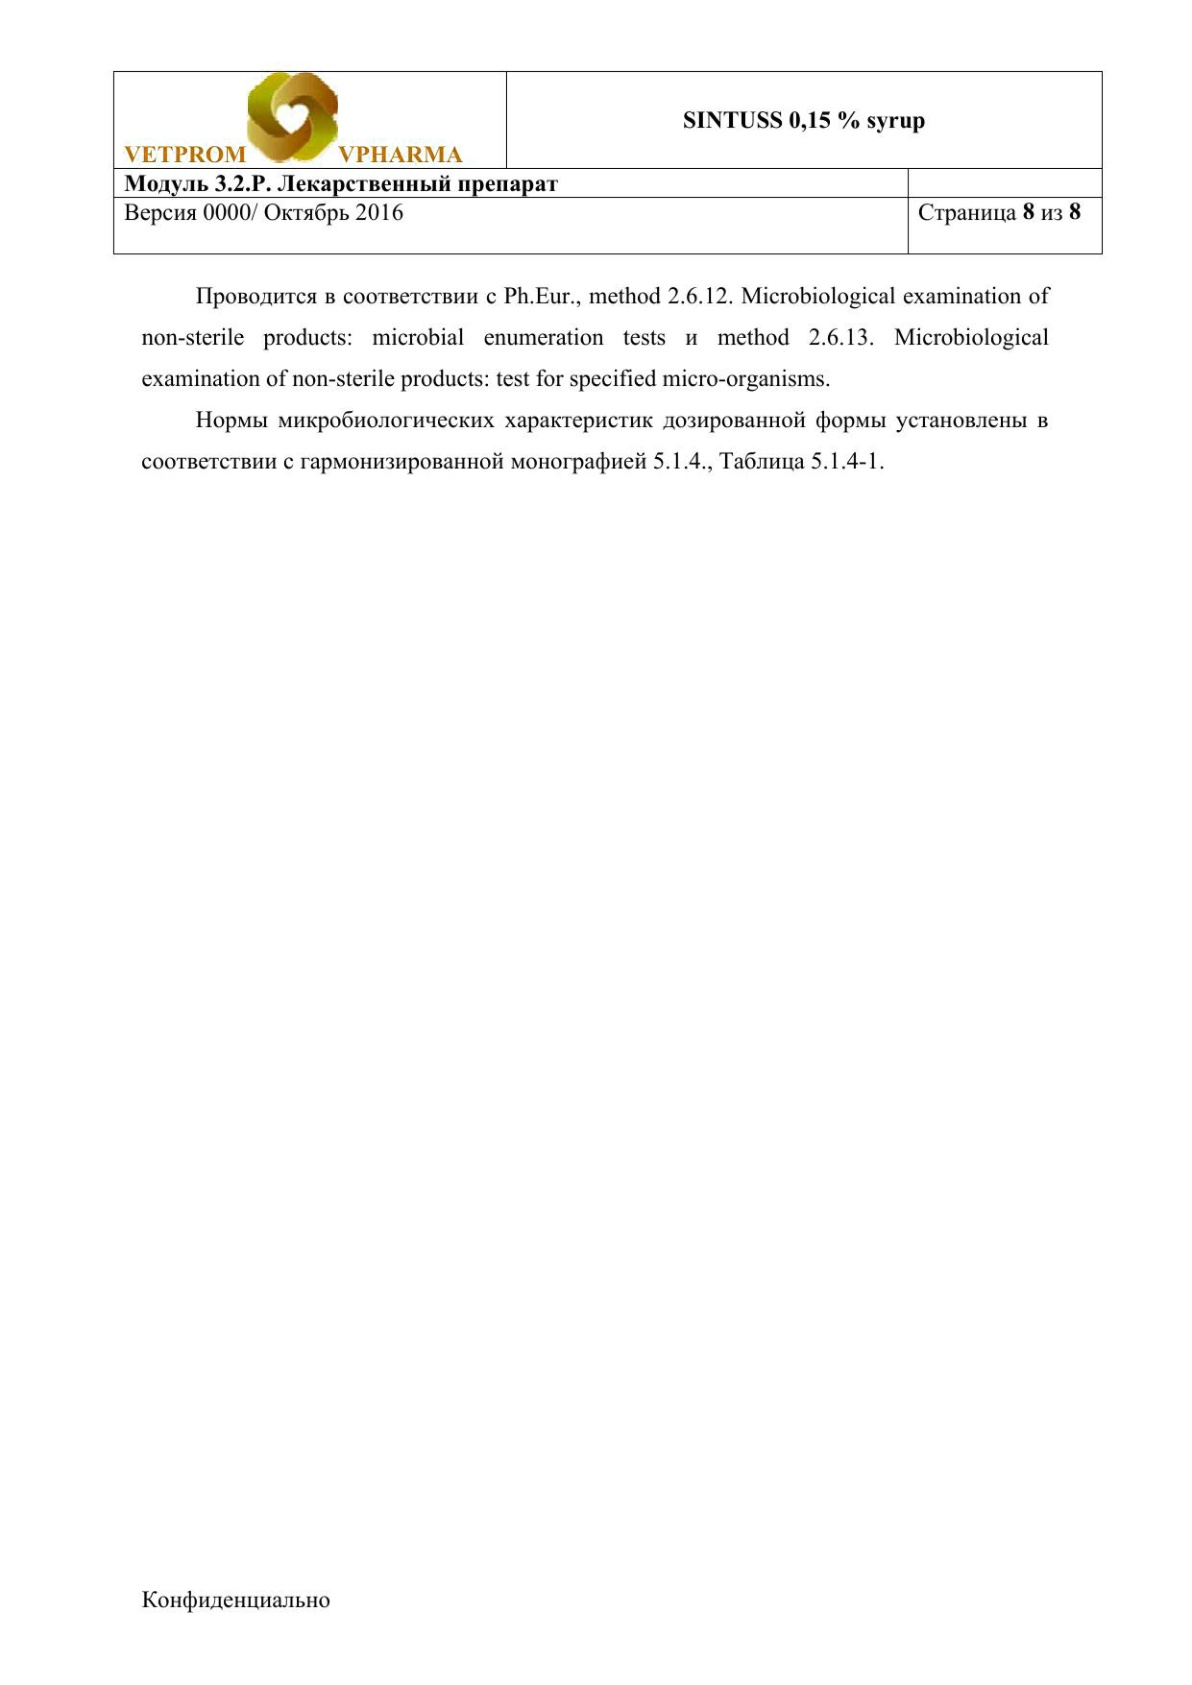merged_cells: (112, 70, 1106, 255)
